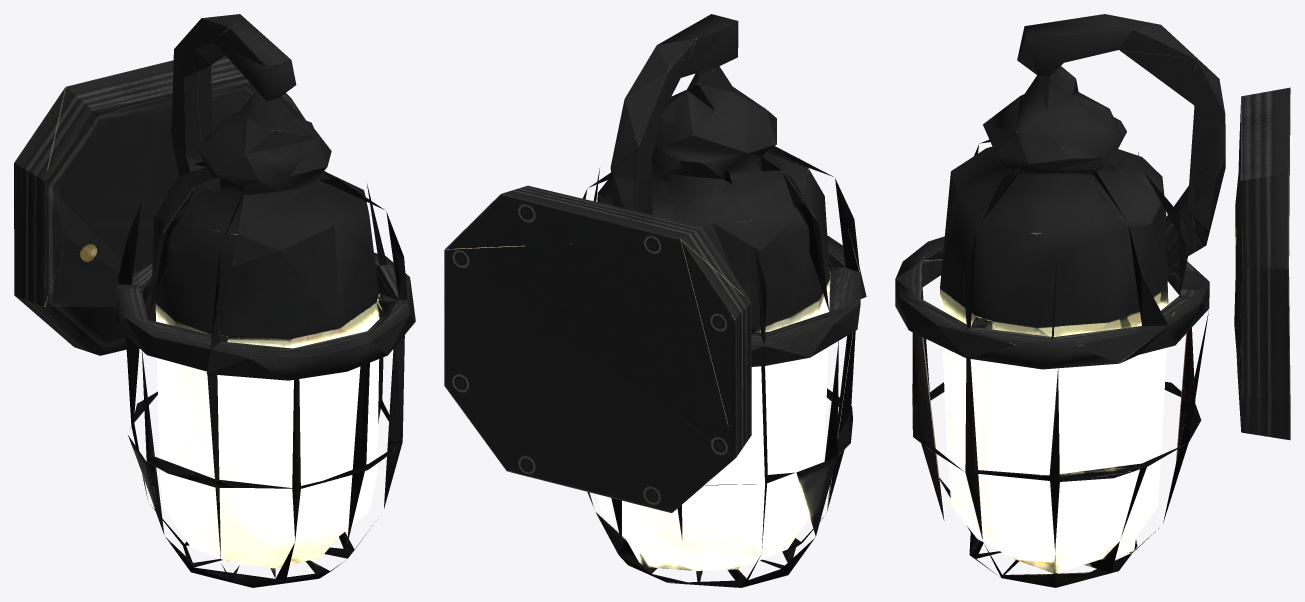
File: ENV_WallSconce.fbx
3 renders of one model, left to right at view 1: azimuth 30°, elevation 25°; view 2: azimuth 150°, elevation 25°; view 3: azimuth 270°, elevation 25°, orthographic. The views are drawn at different scales.
Parts seen in each view (by area): view 1: Mesh_0; view 2: Mesh_0; view 3: Mesh_0.
Part boxes in pixels (bbox=[...]): Mesh_0: bbox=[14, 14, 415, 587]; Mesh_0: bbox=[444, 14, 866, 587]; Mesh_0: bbox=[895, 14, 1290, 587].
Size of the model in its own units: 107 by 190 by 128.
Materials: 1 (1 with a texture image).
